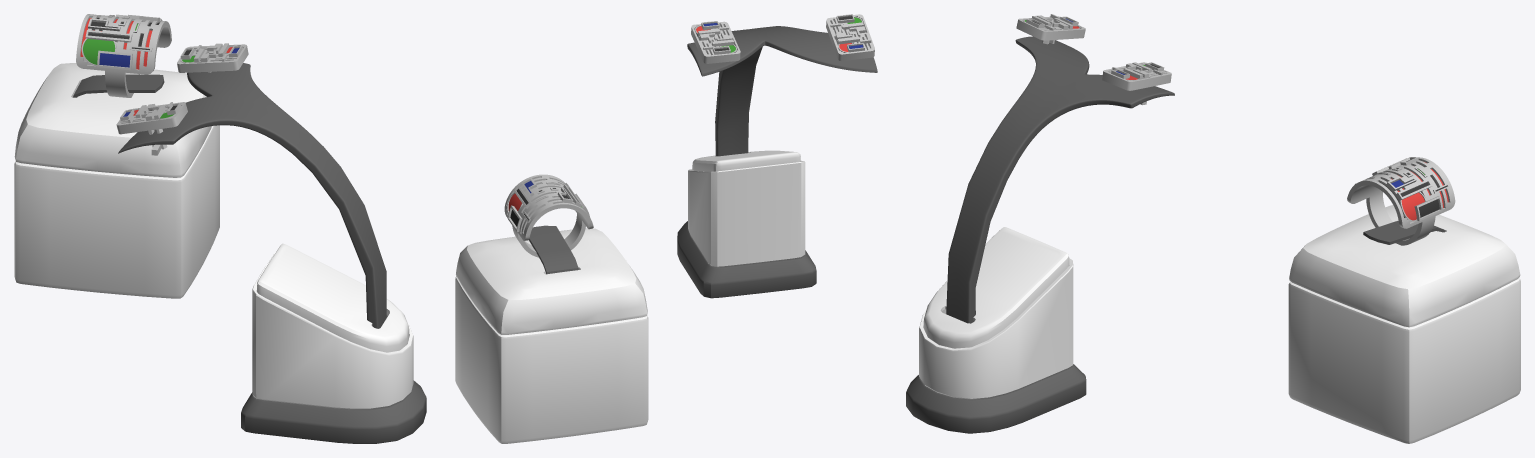
Rendered from sculpture_05.glb.
3 renders of one model, left to right at view 1: azimuth 30°, elevation 25°; view 2: azimuth 150°, elevation 25°; view 3: azimuth 270°, elevation 25°, orthographic. The views are drawn at different scales.
Visible parts, largest first — view 1: PST_12.001; view 2: PST_12.001; view 3: PST_12.001.
Part boxes in pixels (x1=…): PST_12.001: x1=14, y1=14, x2=426, y2=443; PST_12.001: x1=455, y1=14, x2=877, y2=443; PST_12.001: x1=906, y1=14, x2=1520, y2=443.
Size of the model in its own units: 0.2461 by 0.268 by 0.4773.
